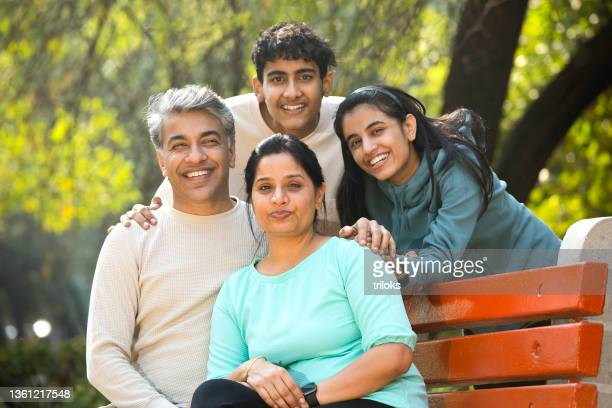men: (133, 81, 237, 204), (239, 18, 332, 126)
women: (245, 133, 335, 249), (334, 83, 434, 183)
